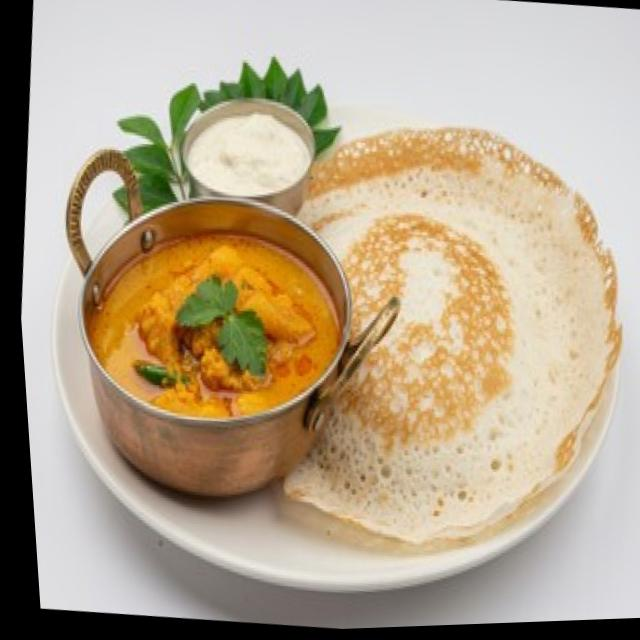AAPAM: (283, 126, 618, 547)
CURRY: (87, 232, 339, 413)
WHITE CHUTNEY: (187, 112, 309, 193)
